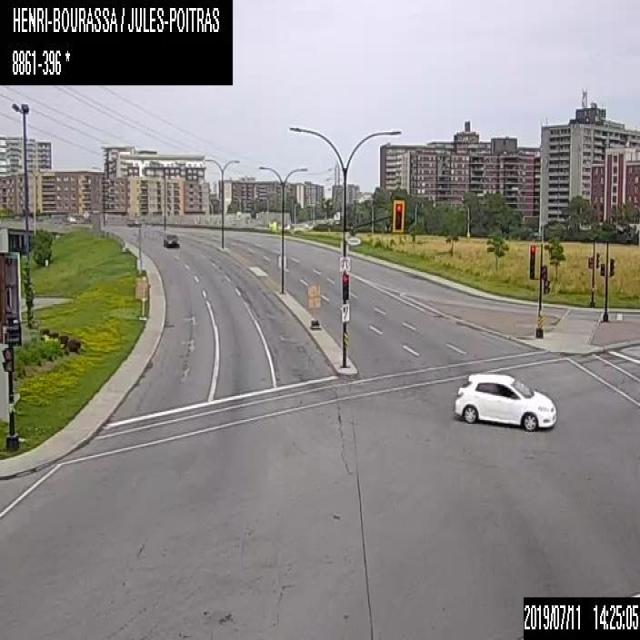vehicle: (452, 371, 556, 432), (162, 231, 179, 248)
